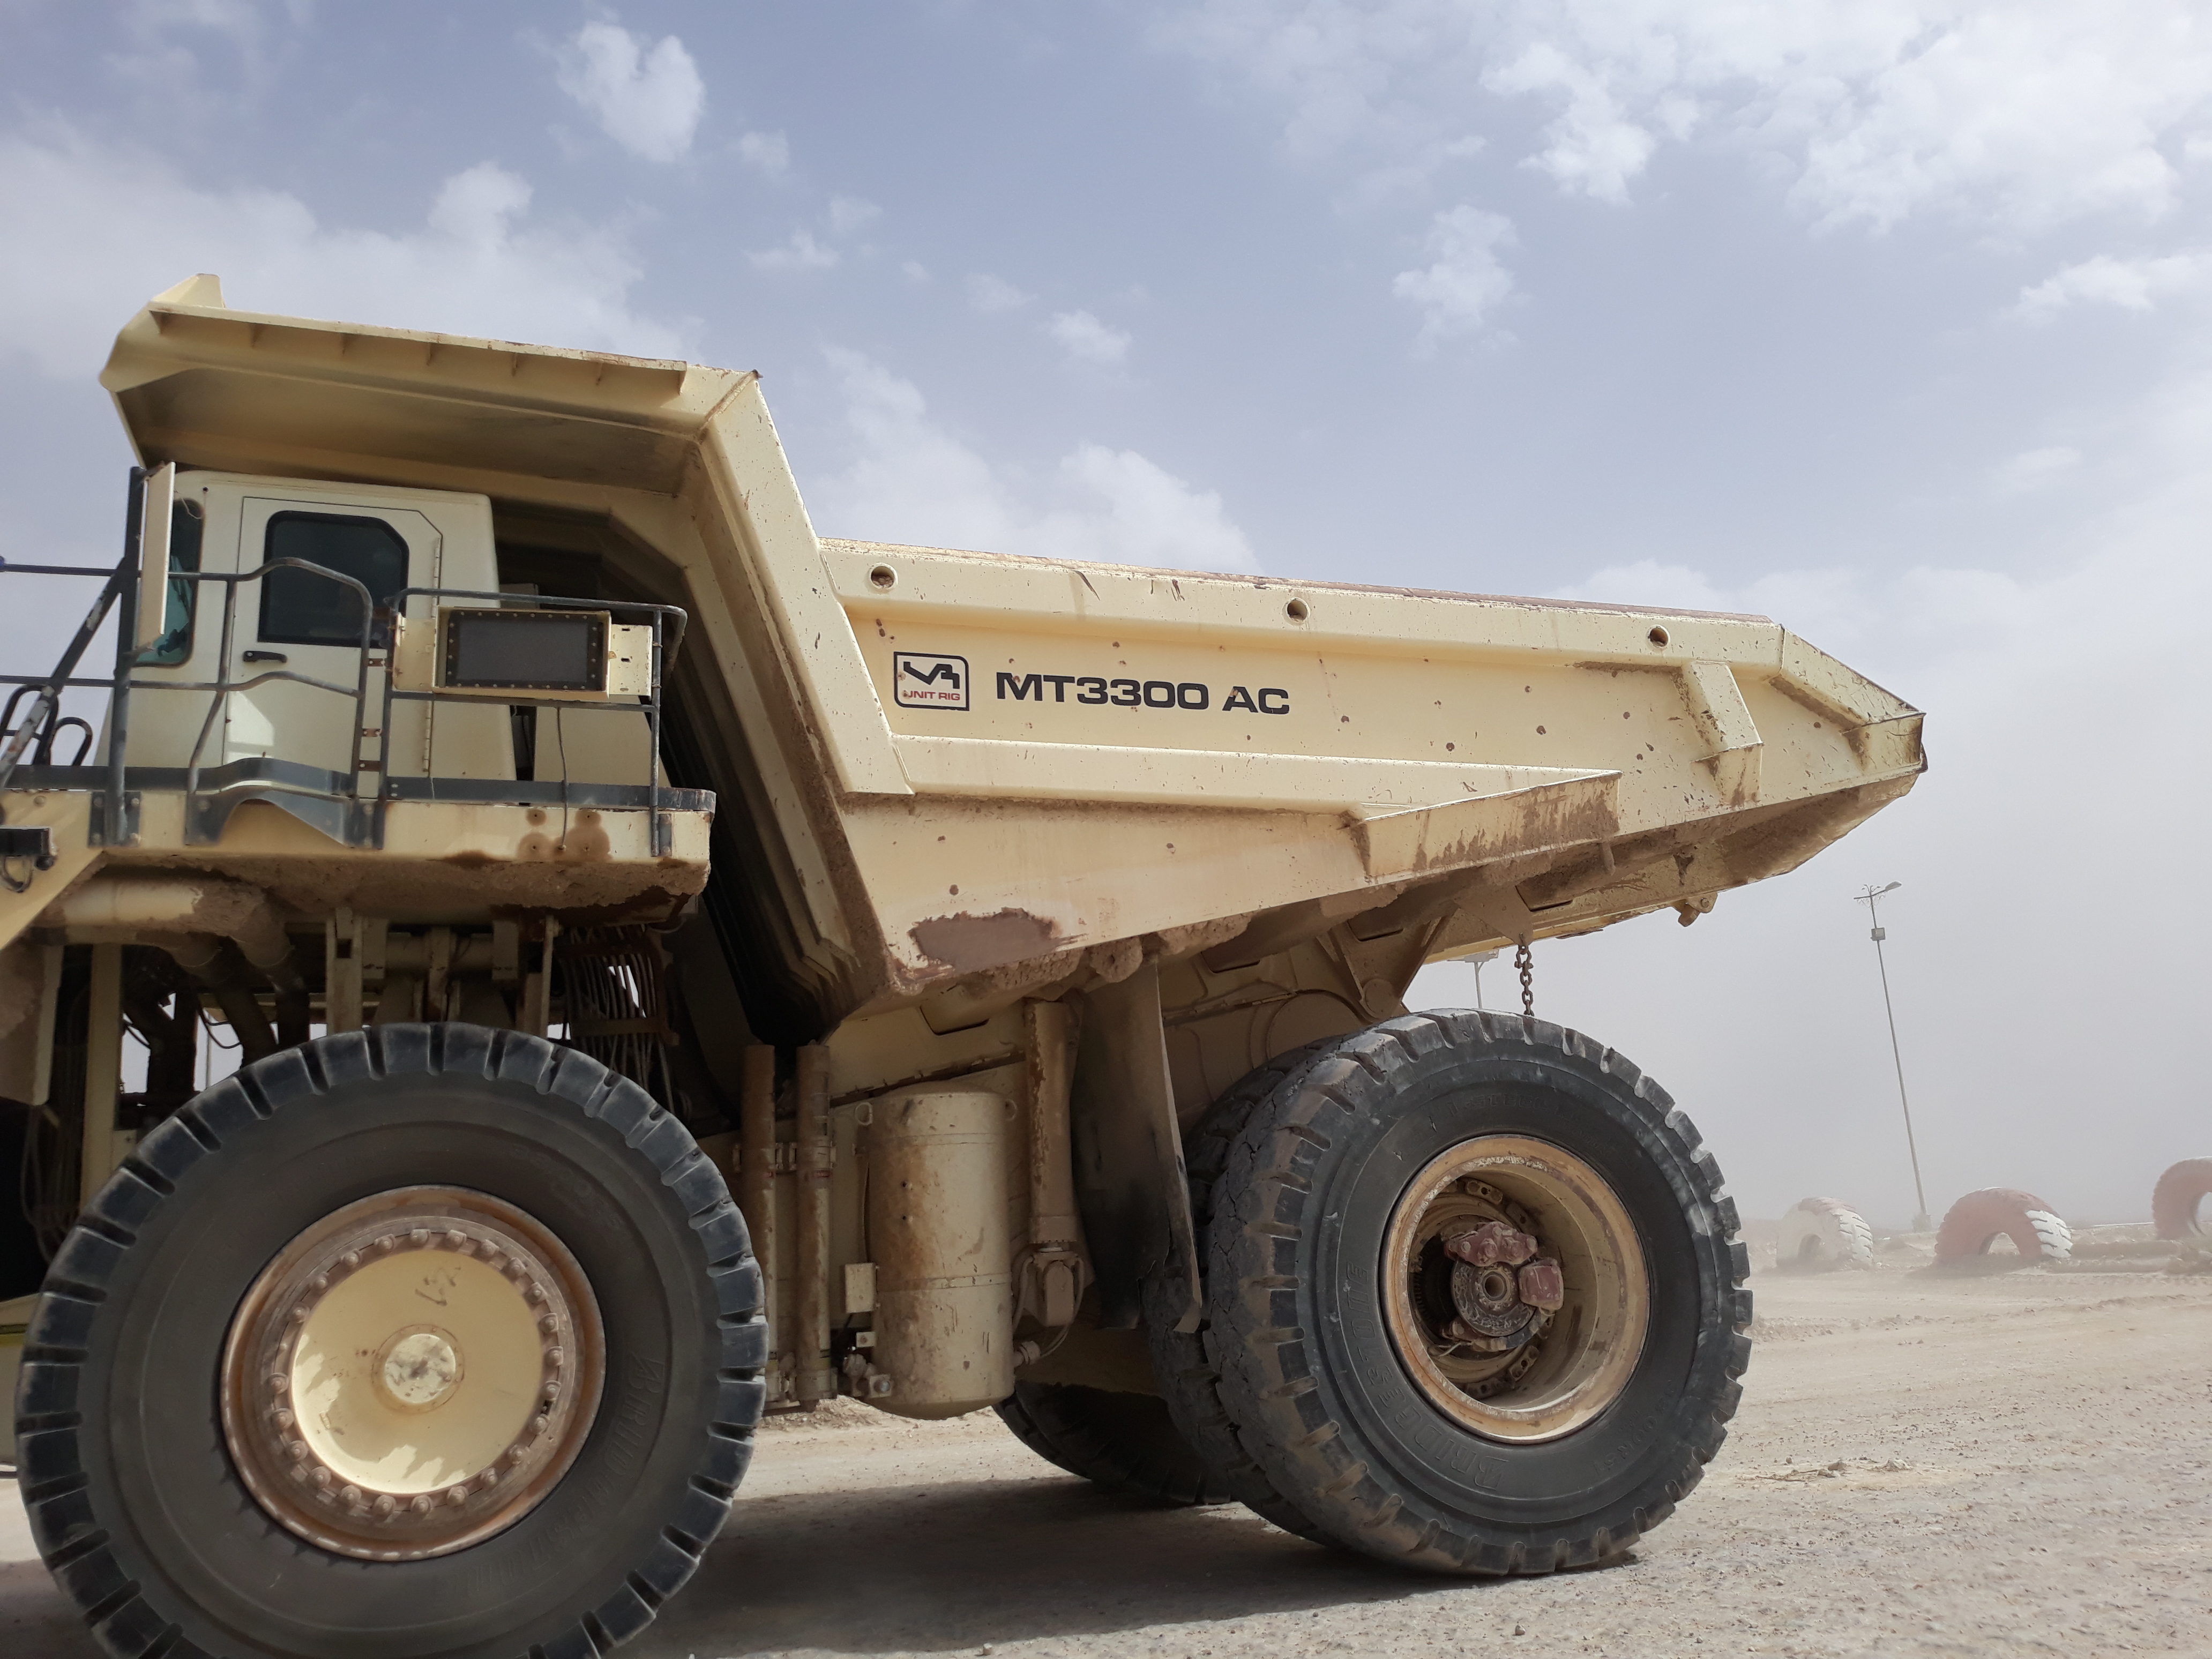camion: (0, 272, 1951, 1650)
